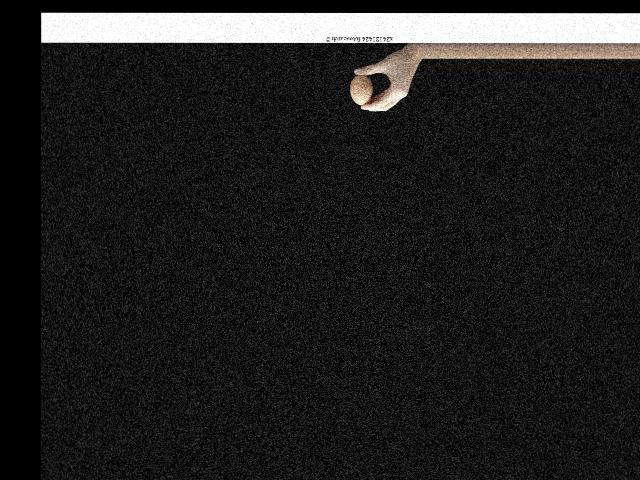egg: (350, 74, 372, 105)
